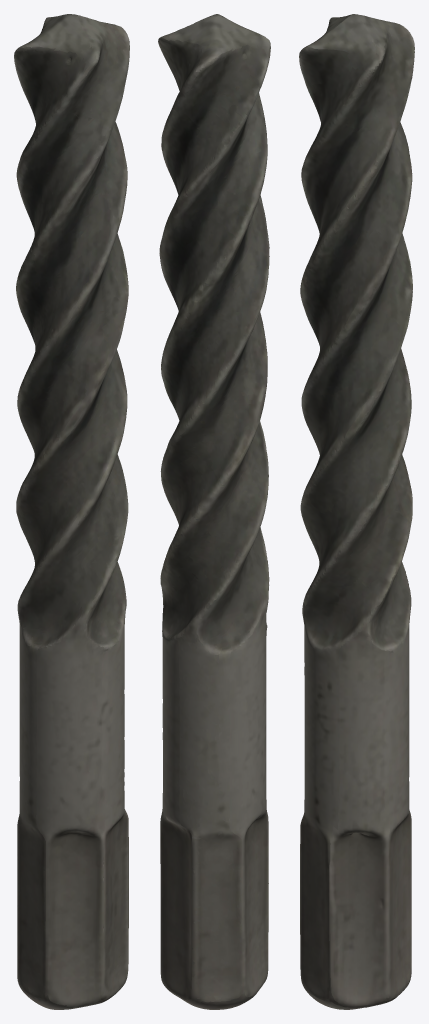
The picture shows the model from 3 angles, left to right: view 1: azimuth 90°, elevation 25°; view 2: azimuth 150°, elevation 25°; view 3: azimuth 270°, elevation 25°; orthographic projection.
Parts seen in each view (by area): view 1: geometry_0; view 2: geometry_0; view 3: geometry_0.
Boxes of the visible parts, x1,y1,x2,y2 form: geometry_0: (14,14,129,1009); geometry_0: (158,14,270,1009); geometry_0: (299,14,414,1009).
Bounding box in the file's own units: 0.16 × 1.52 × 0.1624.
1 material, 1 textured.
